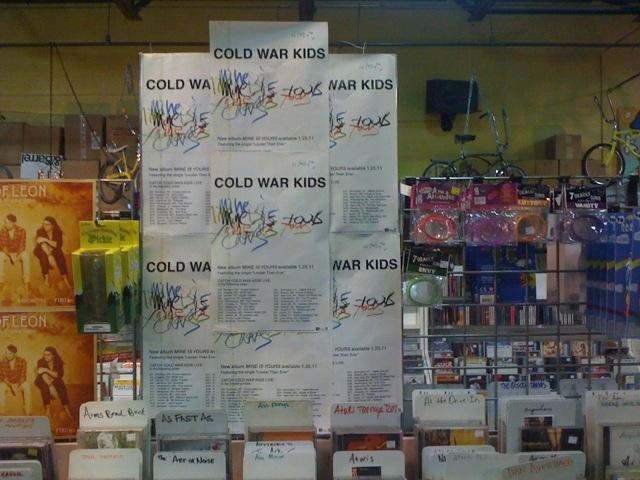non-vehicle: (420, 109, 526, 186), (580, 86, 639, 187), (96, 122, 140, 204)
